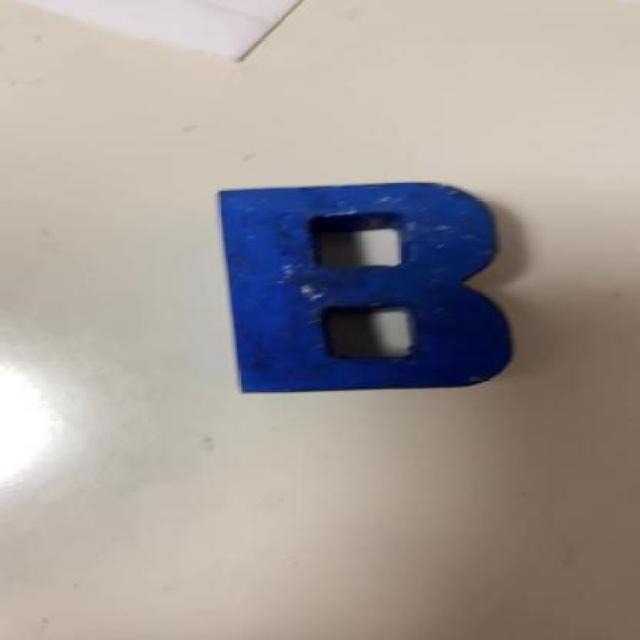B: (211, 178, 527, 396)
